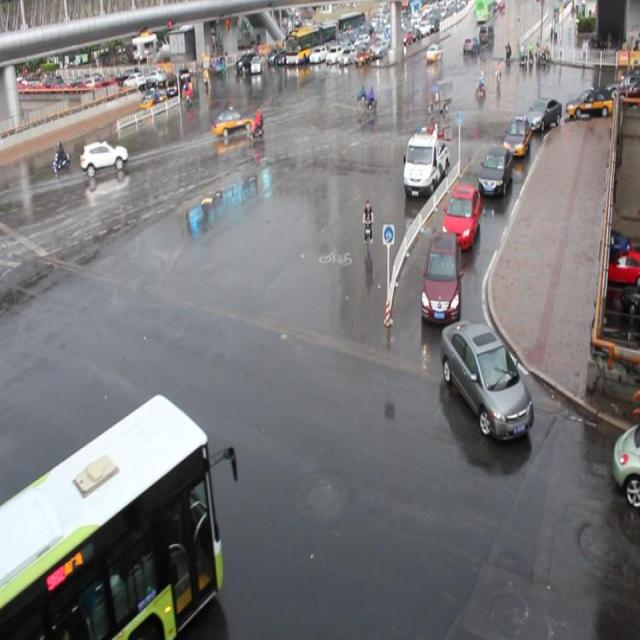bus: (401, 127, 448, 200)
car: (439, 318, 532, 440), (420, 231, 460, 322), (440, 185, 480, 250), (612, 419, 640, 509), (477, 145, 512, 195), (80, 140, 129, 172), (211, 106, 253, 137), (524, 97, 560, 133), (502, 116, 530, 157)
van: (1, 393, 221, 640)
